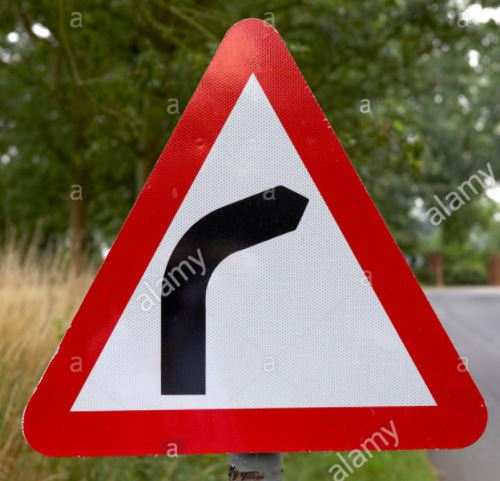Bend_to_right: (20, 16, 489, 461)
